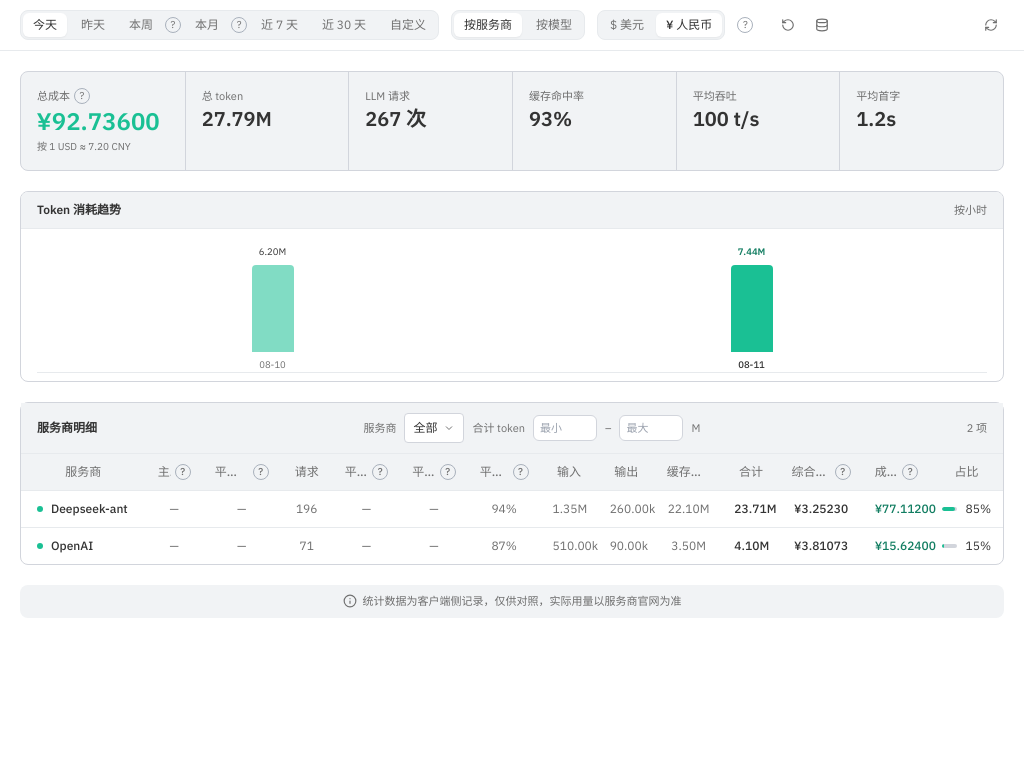
Scenario: UsageWindow 全局用量窗口 › 自定义范围同日 → 按小时粒度
Click the button "自定义": (408, 25) [380,13,436,37]
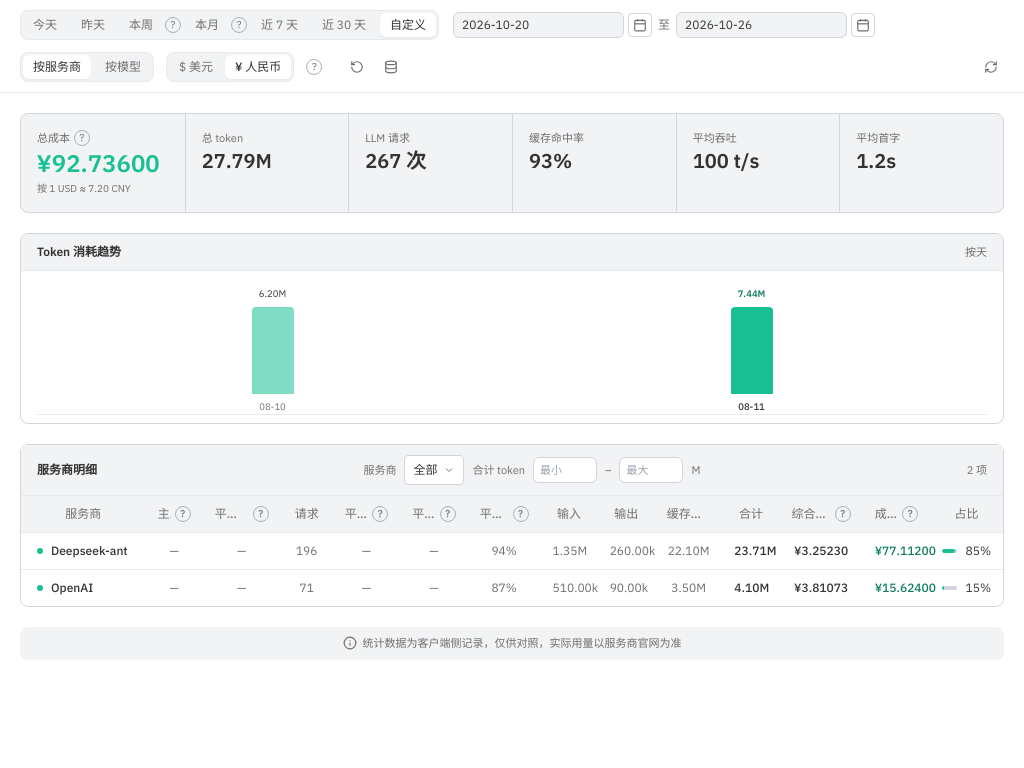
Replace the text in the field named "起始日期" with "2026-08-10": (538, 25) [453,12,624,38]
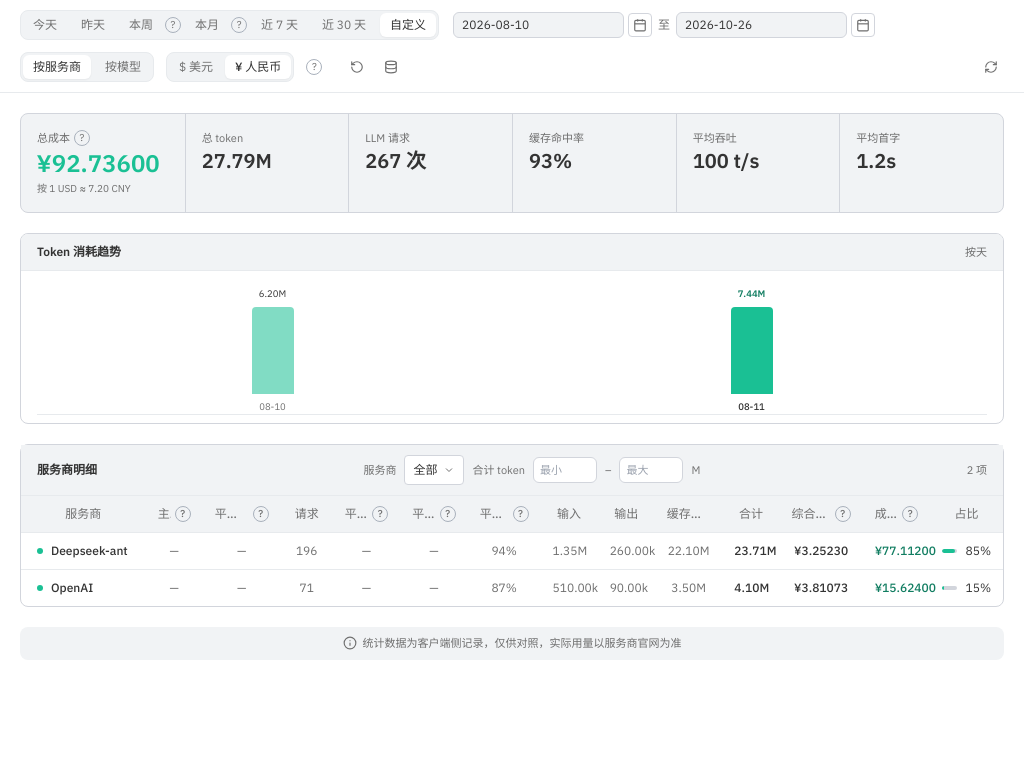
Replace the text in the field named "结束日期" with "2026-08-10": (762, 25) [676,12,847,38]
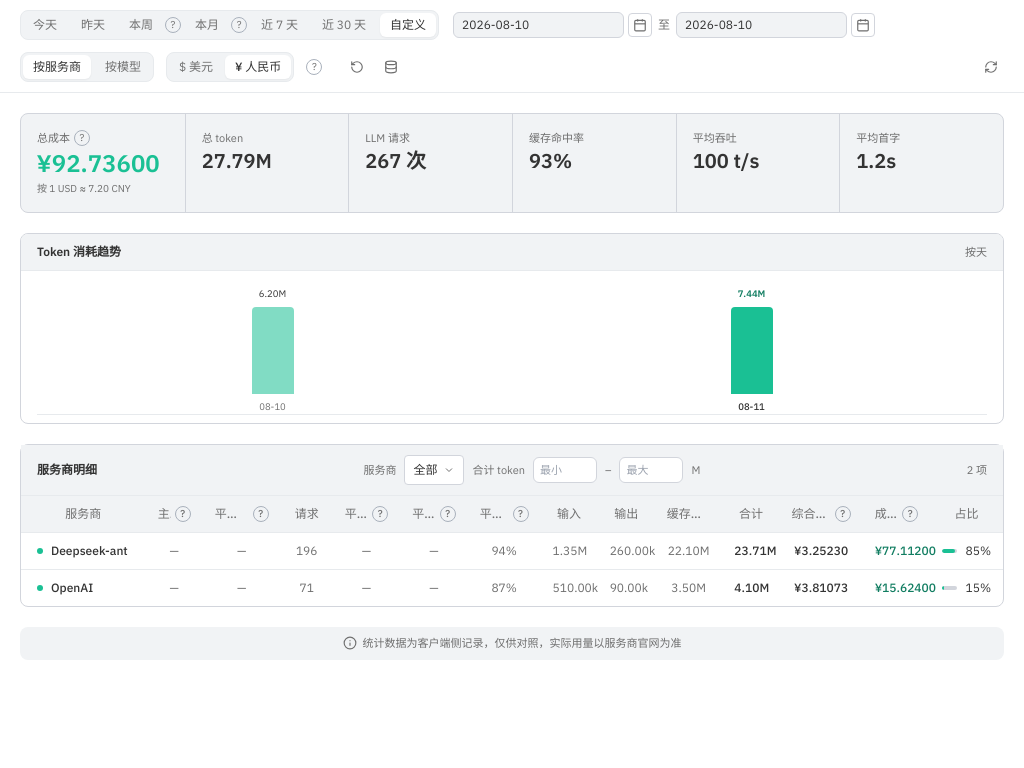
Leave the field named "结束日期", box [676,12,847,38]
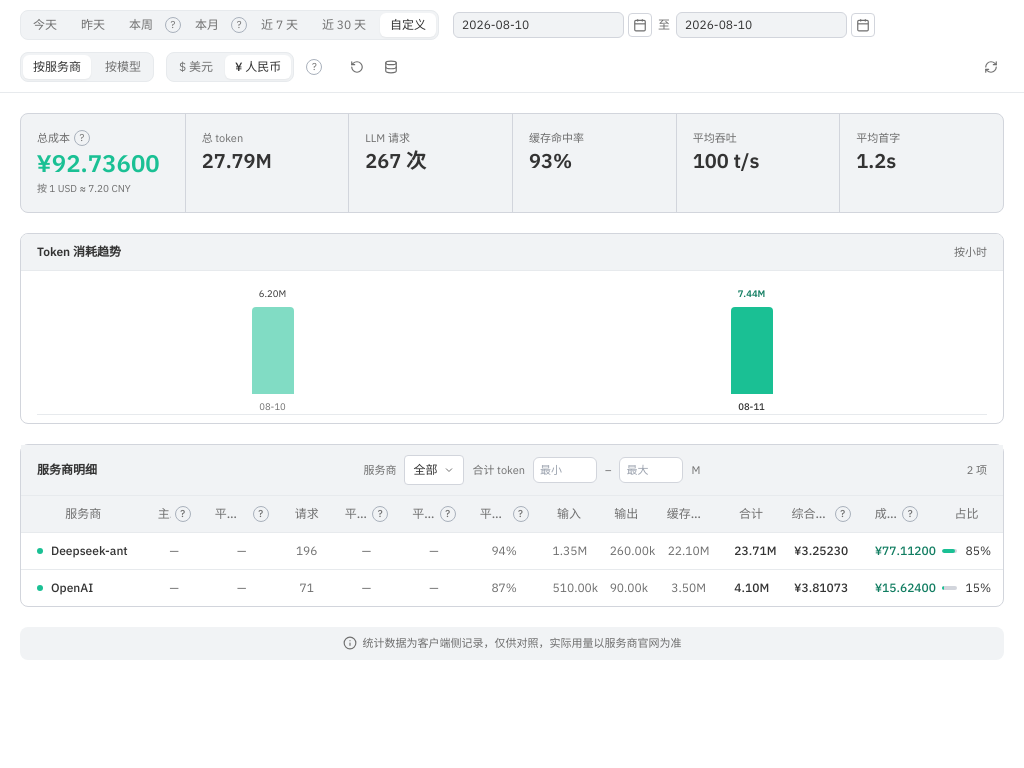
Expected: the text "按小时" is shown, [954,244,987,260]
